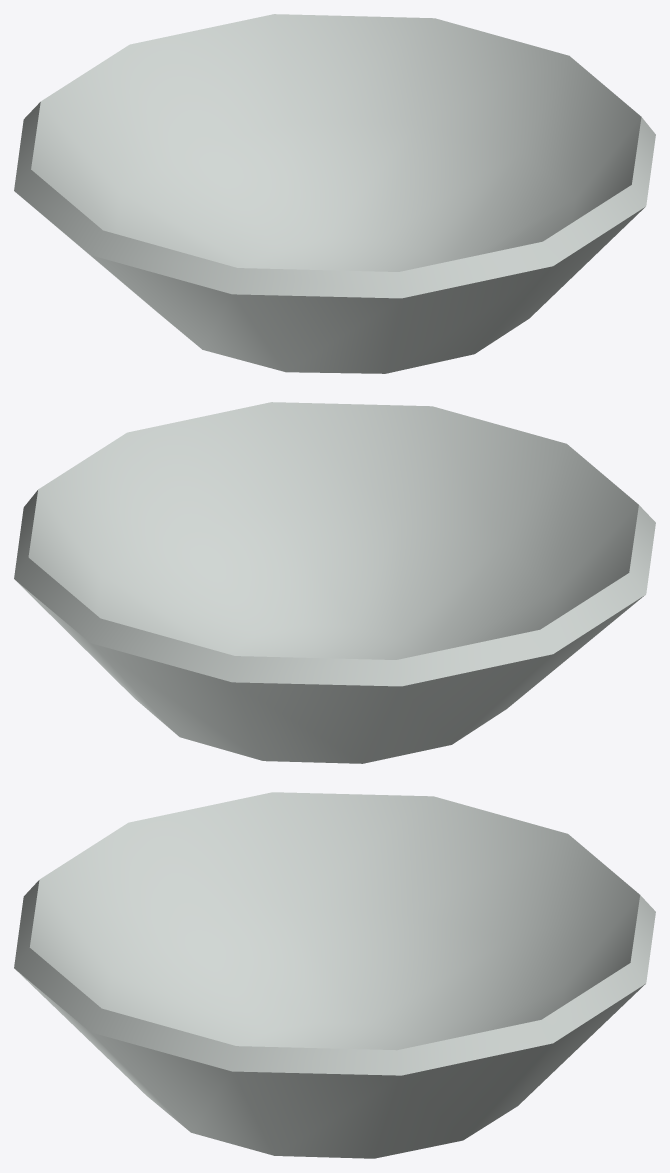
The model's file is SM_Prop_Dishes_03.obj.
3 views of the same model, one above another, from view 1: azimuth 30°, elevation 25°; view 2: azimuth 150°, elevation 25°; view 3: azimuth 270°, elevation 25° (orthographic).
Visible parts, largest first — view 1: SM_Prop_Dishes_03_Mat_SwatchOverlay_PolygonOffice_01_Inst; view 2: SM_Prop_Dishes_03_Mat_SwatchOverlay_PolygonOffice_01_Inst; view 3: SM_Prop_Dishes_03_Mat_SwatchOverlay_PolygonOffice_01_Inst.
Boxes of the visible parts, x1,y1,x2,y2 form: SM_Prop_Dishes_03_Mat_SwatchOverlay_PolygonOffice_01_Inst: (14, 14, 655, 373); SM_Prop_Dishes_03_Mat_SwatchOverlay_PolygonOffice_01_Inst: (14, 402, 655, 763); SM_Prop_Dishes_03_Mat_SwatchOverlay_PolygonOffice_01_Inst: (14, 792, 655, 1158).
Bounding box in the file's own units: 0.3354 × 0.0939 × 0.3354.
Materials: 1 (1 with a texture image).
